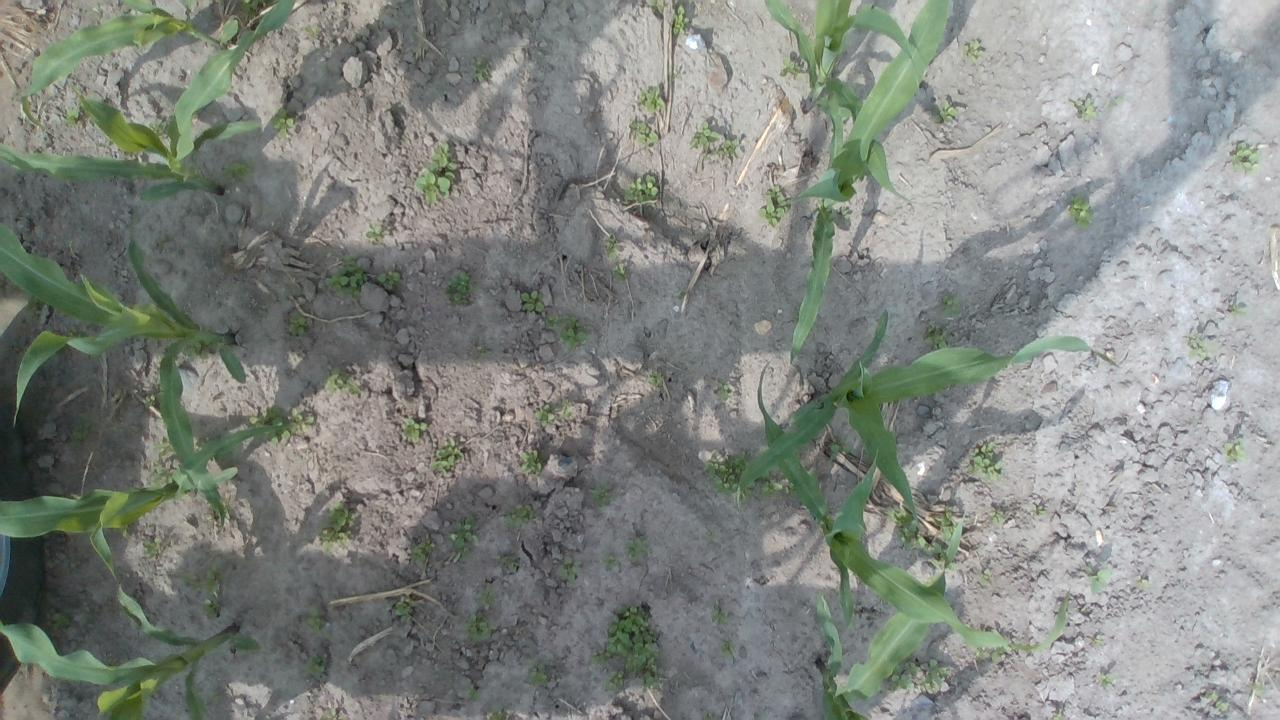Maize: (755, 359, 1072, 652), (736, 310, 1117, 524), (0, 219, 247, 530), (776, 0, 956, 368), (0, 490, 266, 720), (0, 0, 290, 199), (19, 0, 243, 127), (764, 0, 912, 175), (810, 590, 874, 720)
Weeds: (589, 604, 669, 692), (888, 503, 946, 557), (704, 452, 756, 504), (416, 141, 457, 203), (184, 560, 223, 618), (688, 121, 742, 160), (325, 254, 369, 300), (319, 502, 357, 554), (546, 312, 592, 352), (966, 441, 1004, 483), (758, 184, 794, 228), (146, 438, 178, 486), (449, 516, 478, 562), (430, 437, 464, 474), (460, 610, 497, 644), (623, 174, 658, 207), (442, 270, 473, 307), (758, 470, 796, 500), (49, 609, 102, 630), (220, 158, 260, 184), (1067, 194, 1094, 231), (889, 660, 920, 692), (635, 82, 665, 115), (921, 658, 950, 692), (1230, 140, 1259, 174), (628, 119, 658, 149), (499, 503, 534, 528), (248, 406, 286, 428), (492, 546, 520, 574), (179, 336, 209, 362), (272, 107, 296, 139), (1084, 564, 1108, 596), (69, 411, 93, 442), (556, 555, 582, 583), (588, 480, 614, 508), (1186, 329, 1210, 359), (147, 115, 173, 142), (923, 322, 949, 349), (518, 448, 543, 476), (938, 505, 958, 540), (962, 38, 987, 66), (288, 407, 314, 433), (474, 582, 498, 609), (829, 434, 853, 461), (1074, 94, 1098, 121), (526, 658, 549, 686), (412, 539, 434, 568), (302, 652, 326, 678), (779, 55, 805, 79), (322, 366, 344, 394), (402, 417, 426, 442), (933, 100, 958, 124), (395, 597, 417, 623), (1224, 438, 1246, 464), (974, 647, 1009, 663), (624, 535, 646, 560), (366, 222, 390, 244), (520, 290, 545, 311), (602, 231, 620, 260), (470, 56, 490, 82), (714, 376, 734, 402), (711, 598, 729, 626), (376, 269, 400, 289), (534, 402, 554, 426), (672, 4, 688, 34), (308, 606, 324, 633), (286, 313, 306, 334), (143, 536, 163, 557), (486, 705, 514, 720), (1132, 574, 1153, 594), (940, 294, 963, 312), (318, 706, 347, 720), (832, 206, 852, 226), (720, 638, 739, 659), (1096, 672, 1118, 689), (1104, 93, 1126, 110), (557, 398, 574, 419), (612, 262, 628, 284), (204, 690, 226, 706), (85, 0, 104, 18), (465, 682, 482, 702), (344, 377, 362, 395), (266, 431, 290, 444), (1250, 679, 1266, 698), (646, 370, 664, 386), (475, 344, 493, 360), (240, 0, 266, 11), (1229, 302, 1247, 317), (981, 567, 994, 587), (603, 554, 618, 571), (988, 510, 1006, 524), (64, 109, 80, 124), (647, 0, 665, 12), (304, 25, 318, 40), (1214, 698, 1229, 712), (930, 556, 944, 570), (144, 393, 157, 408), (1031, 504, 1046, 516), (668, 68, 682, 80), (706, 528, 718, 542), (1093, 637, 1105, 649), (1206, 690, 1218, 702), (807, 466, 818, 479), (702, 710, 716, 720), (948, 562, 962, 572), (1052, 710, 1065, 720), (120, 524, 128, 538), (156, 234, 166, 244), (678, 289, 688, 298), (205, 513, 213, 521)
